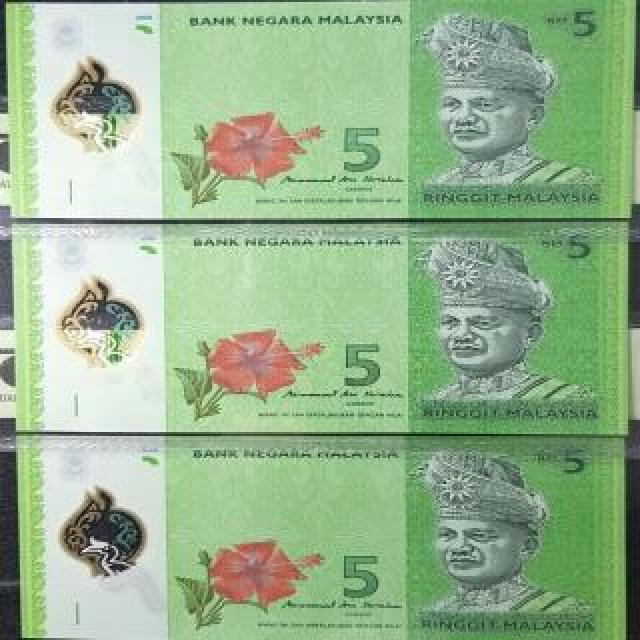5 Ringgit: (8, 6, 629, 222), (12, 228, 623, 439), (18, 436, 624, 639)
